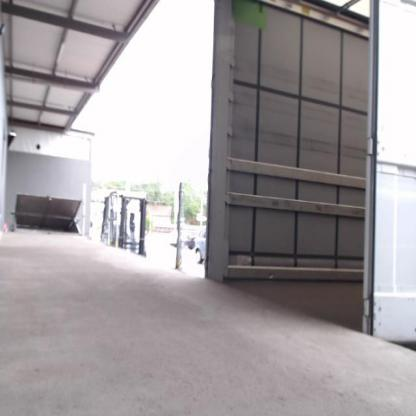forklift: (101, 194, 147, 255)
